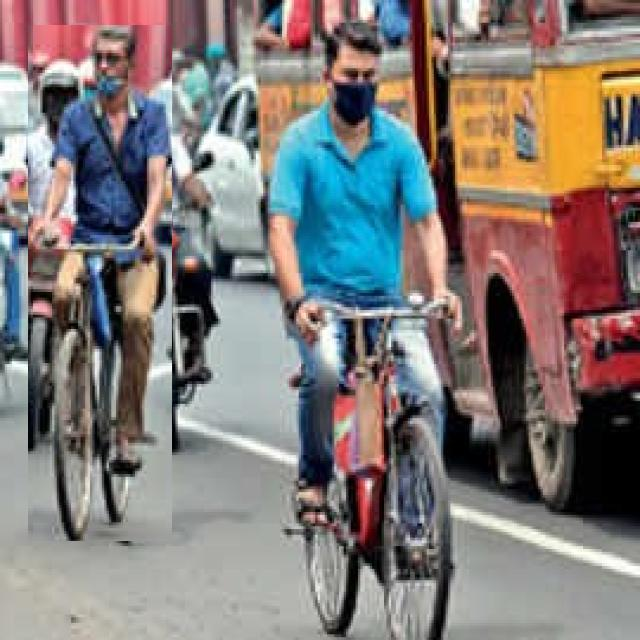bicycle: (269, 22, 460, 638), (28, 25, 171, 541)
